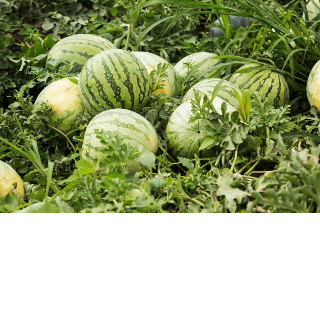dua_hau: (78, 45, 150, 118), (80, 109, 159, 174)
